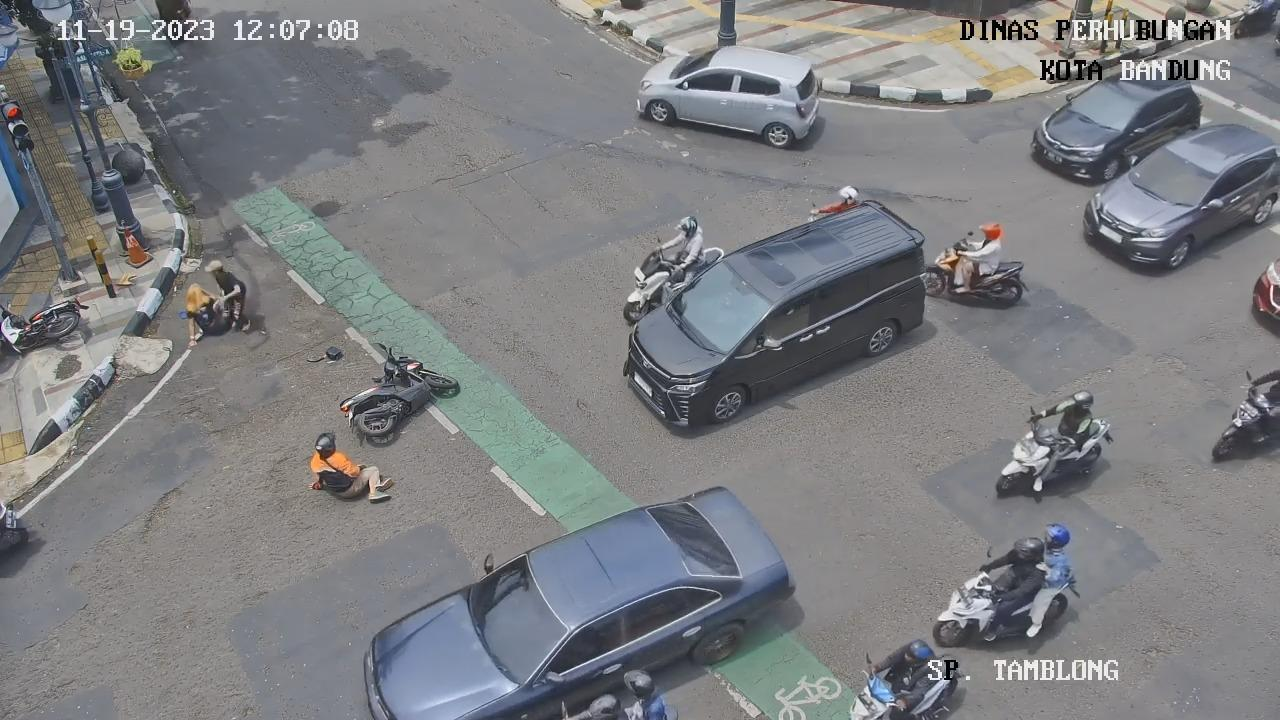accident: (302, 427, 396, 509), (201, 254, 259, 336), (176, 279, 230, 347)
